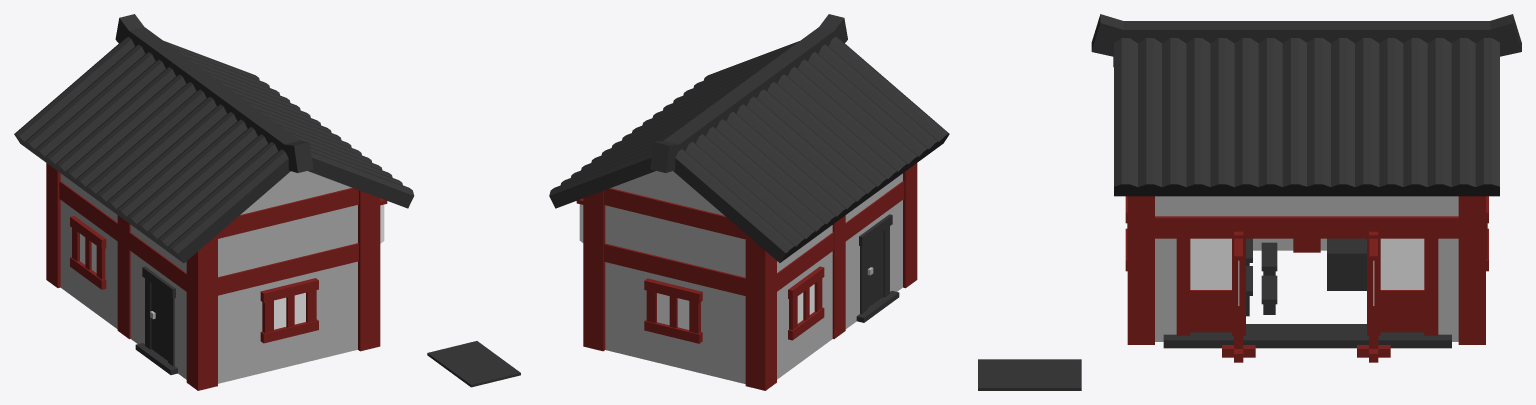
The model's file is small house.fbx.
3 renders of one model, left to right at view 1: azimuth 30°, elevation 25°; view 2: azimuth 150°, elevation 25°; view 3: azimuth 270°, elevation 25°, orthographic. The views are drawn at different scales.
Visible parts, largest first — view 1: 立方体.2506, 立方体.2503, 立方体.2505, 立方体.2504, 立方体.2501, 立方体.2499, 立方体.2507, 立方体.2509, 立方体.2513, 立方体.2515, 立方体.2649, 立方体.2512 (+3 smaller); view 2: 立方体.2506, 立方体.2503, 立方体.2505, 立方体.2504, 立方体.2502, 立方体.2500, 立方体.2508, 立方体.2509, 立方体.2514, 立方体.2516, 立方体.2512, 立方体.2521 (+2 smaller); view 3: 立方体.2505, 立方体.2503, 立方体.2504, 立方体.2511, 立方体.2496, 立方体.2499, 立方体.2500, 立方体.2649, 立方体.2495, 立方体.2493, 立方体.2494, 立方体.2492 (+10 smaller).
Boxes of the visible parts, box(x1,y1,x2,y2) form: 立方体.2506: box(14, 37, 290, 263); 立方体.2503: box(60, 171, 357, 383); 立方体.2505: box(164, 41, 414, 208); 立方体.2504: box(115, 14, 313, 172); 立方体.2501: box(186, 234, 217, 390); 立方体.2499: box(358, 190, 380, 351); 立方体.2507: box(260, 278, 318, 343); 立方体.2509: box(135, 266, 177, 374); 立方体.2513: box(218, 243, 358, 295); 立方体.2515: box(218, 187, 358, 238); 立方体.2649: box(427, 341, 520, 387); 立方体.2512: box(59, 181, 186, 291); 立方体.2506: box(673, 36, 949, 262); 立方体.2503: box(605, 171, 902, 383); 立方体.2505: box(549, 41, 799, 208); 立方体.2504: box(650, 14, 847, 172); 立方体.2502: box(745, 234, 776, 390); 立方体.2500: box(583, 190, 605, 351); 立方体.2508: box(644, 278, 702, 343); 立方体.2509: box(856, 214, 899, 322); 立方体.2514: box(604, 243, 745, 295); 立方体.2516: box(604, 188, 745, 239); 立方体.2512: box(777, 181, 904, 291); 立方体.2521: box(788, 266, 824, 340); 立方体.2505: box(1114, 38, 1499, 196); 立方体.2503: box(1155, 196, 1458, 341); 立方体.2504: box(1091, 14, 1521, 56); 立方体.2511: box(1155, 216, 1458, 238); 立方体.2496: box(1163, 324, 1451, 348); 立方体.2499: box(1127, 196, 1154, 344); 立方体.2500: box(1458, 196, 1485, 344); 立方体.2649: box(978, 359, 1081, 390); 立方体.2495: box(1380, 238, 1424, 289); 立方体.2493: box(1190, 238, 1231, 289); 立方体.2494: box(1380, 290, 1424, 332); 立方体.2492: box(1190, 290, 1231, 332).
Size of the model in its own units: 189 by 147 by 262.
